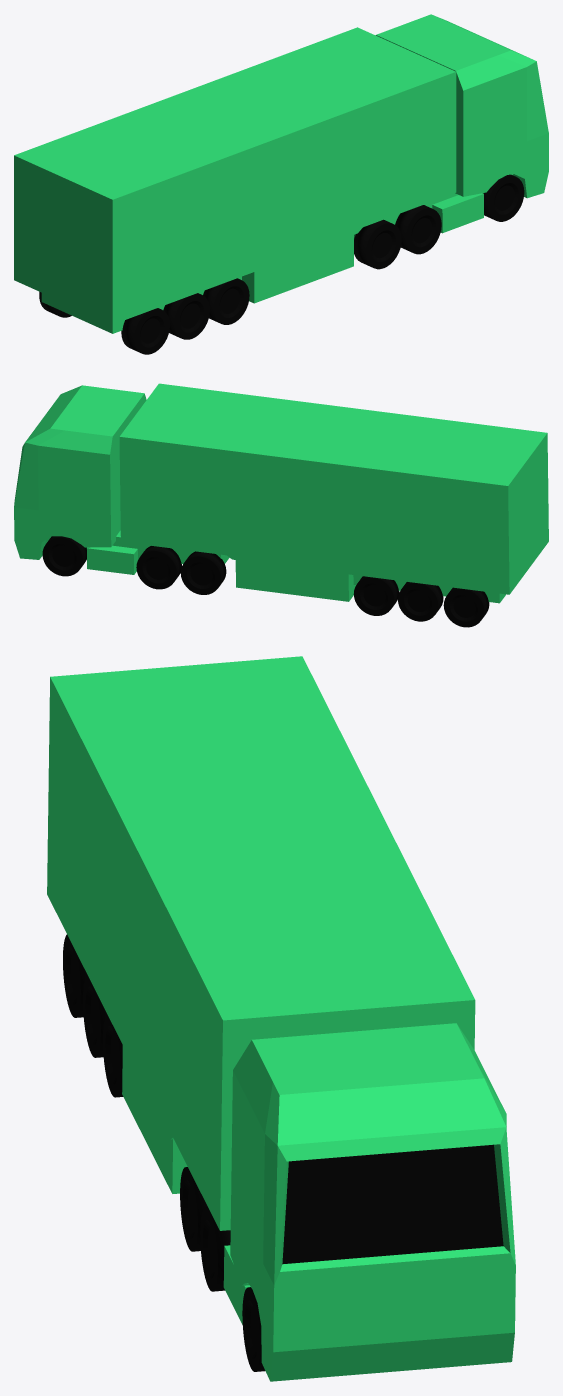
File: rekka.fbx
3 renders of one model, top to bottom at view 1: azimuth 30°, elevation 25°; view 2: azimuth 150°, elevation 25°; view 3: azimuth 270°, elevation 25°, orthographic. The views are drawn at different scales.
Visible parts, largest first — view 1: Karri.001, Hytti.001, TakaRenkaat, HytinTakaRenkaat, Eturenkaat.001; view 2: Karri.001, Hytti.001, TakaRenkaat, HytinTakaRenkaat, Eturenkaat.001; view 3: Karri.001, Hytti.001, TakaRenkaat, HytinTakaRenkaat, Eturenkaat.001.
Boxes of the visible parts, left/top/right/bottom form: Karri.001: left=14, top=27, right=456, bottom=333; Hytti.001: left=354, top=14, right=548, bottom=238; TakaRenkaat: left=39, top=278, right=249, bottom=354; HytinTakaRenkaat: left=354, top=205, right=441, bottom=269; Eturenkaat.001: left=483, top=174, right=524, bottom=221; Karri.001: left=119, top=383, right=548, bottom=603; Hytti.001: left=14, top=385, right=229, bottom=574; TakaRenkaat: left=353, top=576, right=489, bottom=627; HytinTakaRenkaat: left=136, top=546, right=226, bottom=594; Eturenkaat.001: left=42, top=536, right=86, bottom=576; Karri.001: left=47, top=656, right=475, bottom=1230; Hytti.001: left=223, top=1023, right=515, bottom=1381; TakaRenkaat: left=63, top=934, right=123, bottom=1097; HytinTakaRenkaat: left=180, top=1167, right=230, bottom=1291; Eturenkaat.001: left=242, top=1287, right=265, bottom=1371.
Size of what is drawn, in the model's own units: 58.19 by 18.43 by 25.45.
